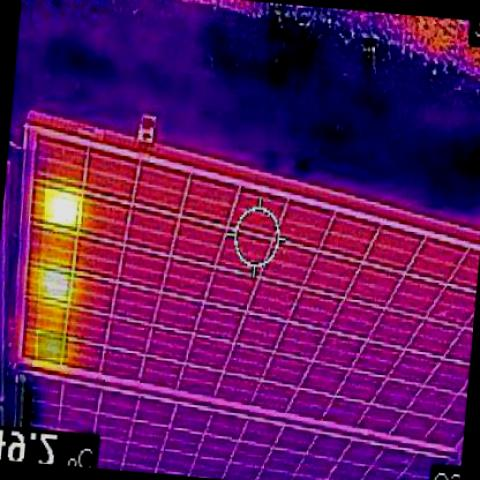fault: (45, 189, 82, 224), (40, 267, 71, 296), (38, 333, 68, 358)
